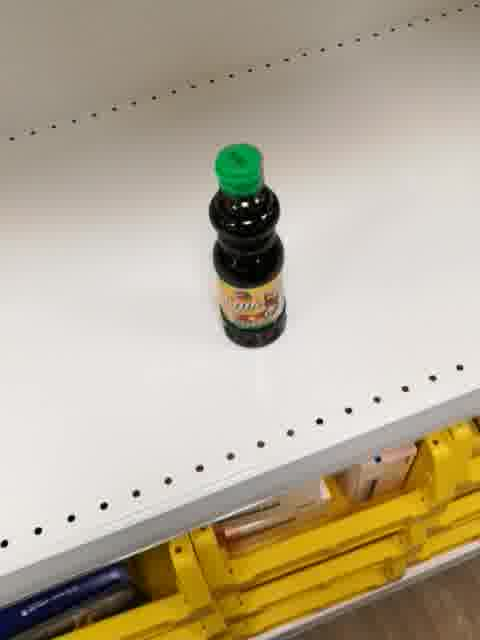cookingoil: (206, 141, 291, 351)
